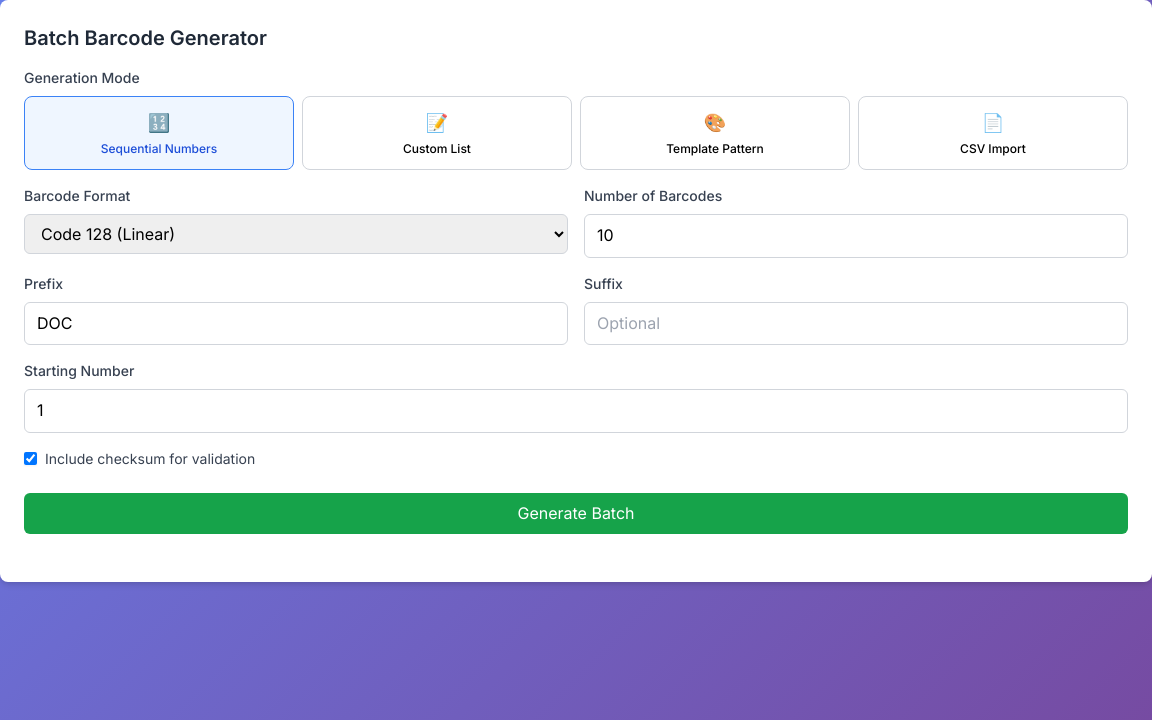
BatchGenerator › validates custom codes input
Note: Switch to custom mode
Click the text "Custom List" at {"x": 437, "y": 148}, box [403, 141, 471, 156]
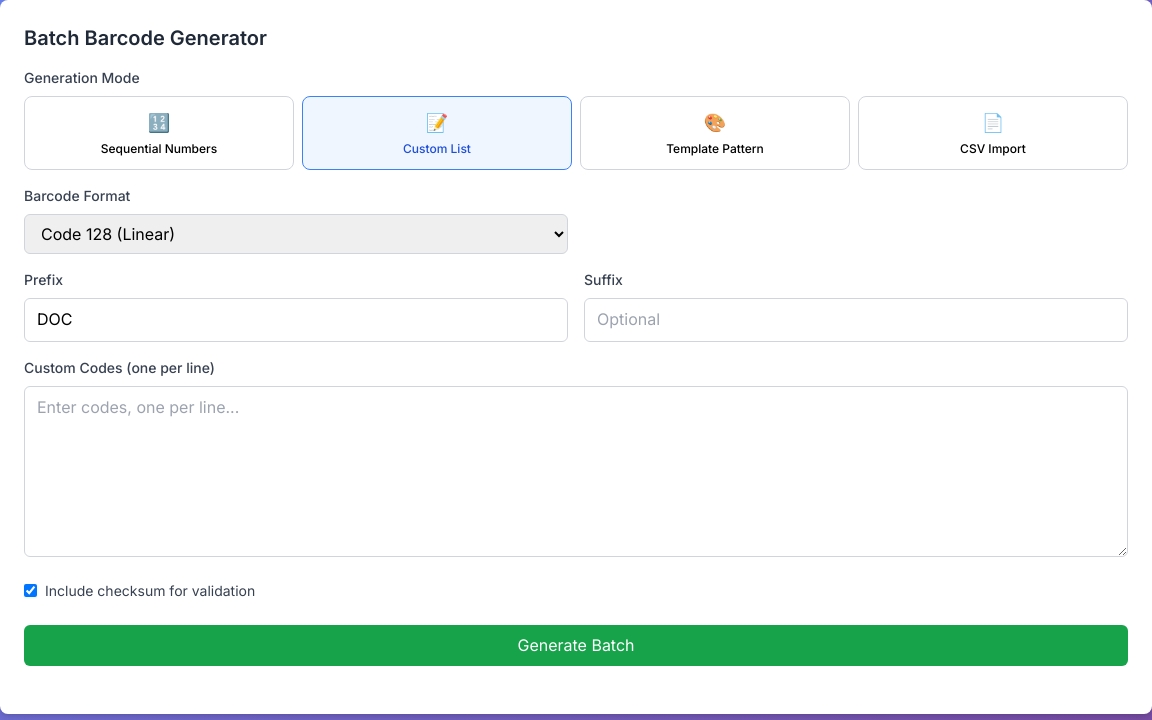
Expected: the button "Generate Batch" is shown, [24, 625, 1128, 666]
Now the text box labelled "Custom Codes (one per line)" is shown, box [24, 386, 1128, 557]
